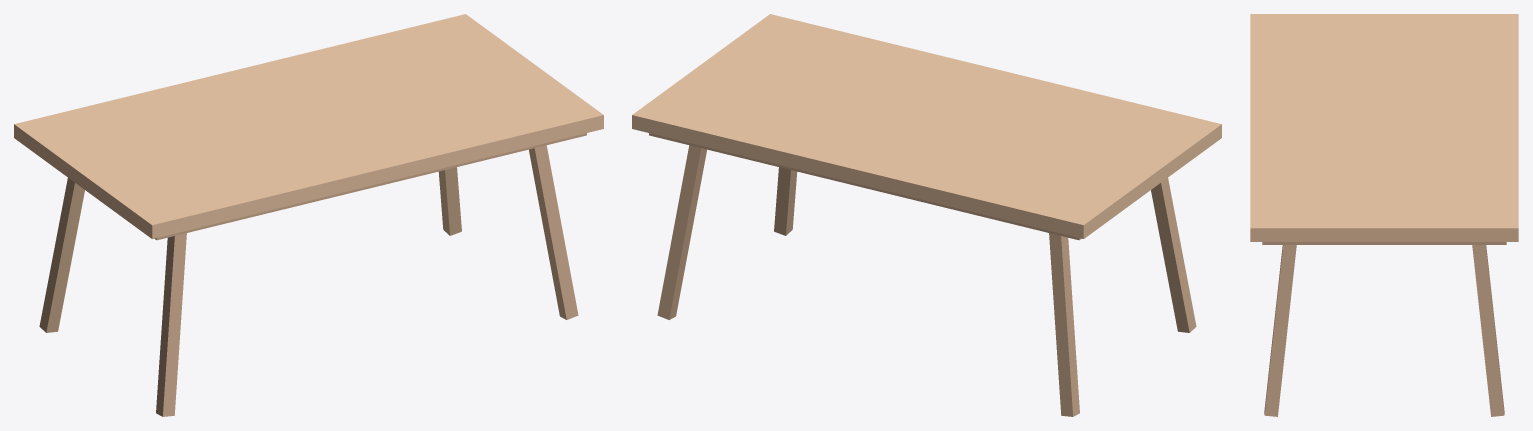
The model's file is diningMidCentury.glb.
The picture shows the model from 3 angles, left to right: view 1: azimuth 30°, elevation 25°; view 2: azimuth 150°, elevation 25°; view 3: azimuth 270°, elevation 25°; orthographic projection. The views are drawn at different scales.
Visible parts, largest first — view 1: diningMidCentury; view 2: diningMidCentury; view 3: diningMidCentury.
Boxes of the visible parts, box(x1,y1,x2,y2) form: diningMidCentury: box(14, 14, 603, 416); diningMidCentury: box(632, 14, 1221, 416); diningMidCentury: box(1250, 14, 1518, 416).
Bounding box in the file's own units: 0.85 × 0.3677 × 0.45.
